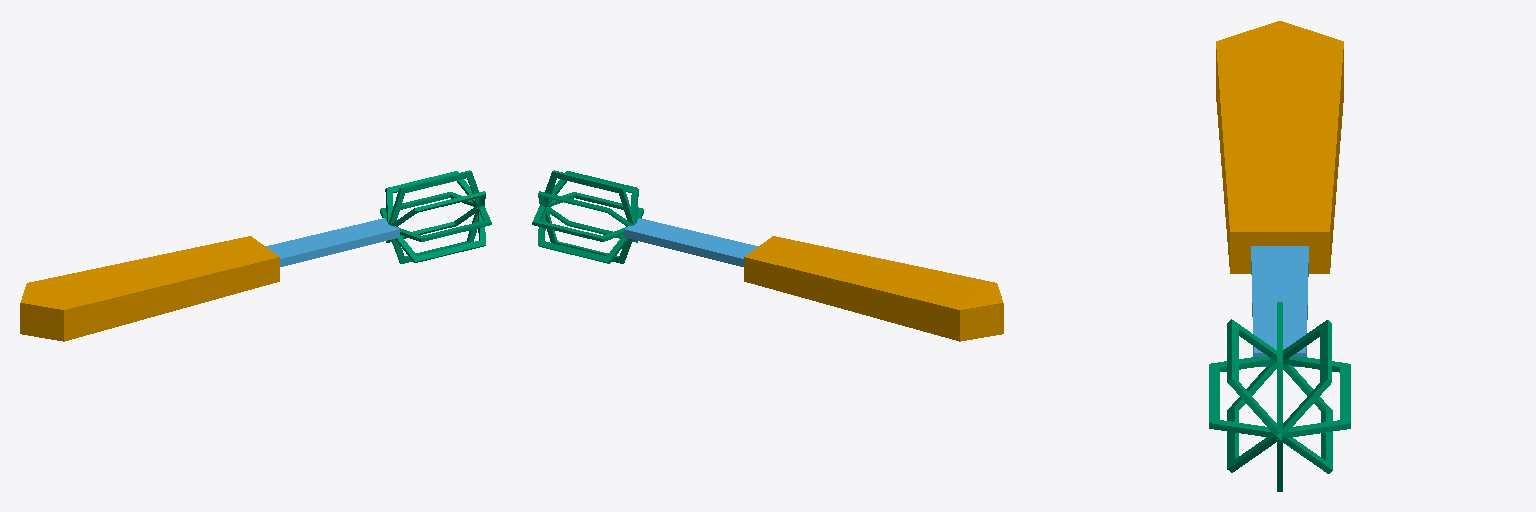
The robot description file, URDF, robot "whisk":
<?xml version="1.0"?>
<robot name="whisk">
  <link name="handle">
    <inertial>
        <origin rpy="0 0 0" xyz="0 0 0"/>
        <mass value="0.01"/>
        <inertia ixx="4.4e-5" ixy="0" ixz="0" iyy="0" iyz="0" izz="4.4e-5"/>
    </inertial>
    <visual>
      <geometry>
        <mesh filename="handle.obj"/>
      </geometry>
    </visual>
    <collision>
      <geometry>
        <mesh filename="handle.obj"/>
      </geometry>
      <surface>
           <bounce restitution_coefficient = "0.1"/>
      </surface>
    </collision>
  </link>
  <link name="shaft">
    <inertial>
        <origin rpy="0 0 0" xyz="0 0 0"/>
        <mass value="0.01"/>
        <inertia ixx="4.4e-5" ixy="0" ixz="0" iyy="0" iyz="0" izz="4.4e-5"/>
    </inertial>
    <visual>
      <geometry>
        <mesh filename="shaft.obj"/>
      </geometry>
    </visual>
    <collision>
      <geometry>
        <mesh filename="shaft.obj"/>
      </geometry>
      <surface>
           <bounce restitution_coefficient = "0.1"/>
      </surface>
    </collision>
  </link>
  <link name="whisk">
    <inertial>
        <origin rpy="0 0 0" xyz="0 0 0"/>
        <mass value="0.01"/>
        <inertia ixx="1.9e-5" ixy="0" ixz="0" iyy="6.8e-6" iyz="0" izz="1.2e-5"/>
    </inertial>
    <visual>
      <geometry>
        <mesh filename="whisk.obj"/>
      </geometry>
    </visual>
    <collision>
      <geometry>
        <mesh filename="whisk.obj"/>
      </geometry>
      <surface>
           <bounce restitution_coefficient = "0.1"/>
      </surface>
    </collision>
  </link>
  <joint name="handle_to_shaft" type="fixed">
    <parent link="handle"/>
    <child link="shaft"/>
    <origin rpy="0 0 0" xyz="0.101 0 0"/>
  </joint>
  <joint name="handle_to_whisk" type="fixed">
    <parent link="handle"/>
    <child link="whisk"/>
    <origin rpy="0 0 0" xyz="0.155 0 0"/>
  </joint>
</robot>

--- What the picture shows (computed from the rendered views, not written in the file) ---
3 views of the same robot in one strip: view 1: azimuth 30°, elevation 25°; view 2: azimuth 150°, elevation 25°; view 3: azimuth 270°, elevation 25° (orthographic).
Robot: whisk — 3 links, 2 joints (2 fixed); root link handle; default pose: every joint at zero.
Links seen in each view (by area): view 1: handle, whisk, shaft; view 2: handle, whisk, shaft; view 3: handle, whisk, shaft.
Boxes of the visible links, left/top/right/bottom form: handle: left=20, top=236, right=279, bottom=341; whisk: left=380, top=170, right=491, bottom=263; shaft: left=265, top=218, right=399, bottom=266; handle: left=744, top=236, right=1003, bottom=341; whisk: left=532, top=170, right=643, bottom=263; shaft: left=624, top=218, right=758, bottom=266; handle: left=1216, top=21, right=1343, bottom=273; whisk: left=1209, top=302, right=1350, bottom=491; shaft: left=1251, top=246, right=1308, bottom=366.
Bounding box of the posed robot: 0.2333 × 0.036 × 0.0364 m (x, y, z).
3 mesh visuals loaded from 3 distinct referenced files (3 OBJ).
